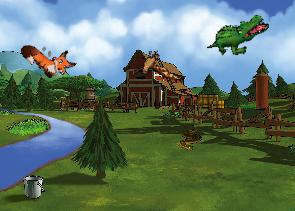crocodile: (205, 1, 271, 69)
eagle: (130, 46, 181, 88)
fox: (17, 27, 79, 87)
